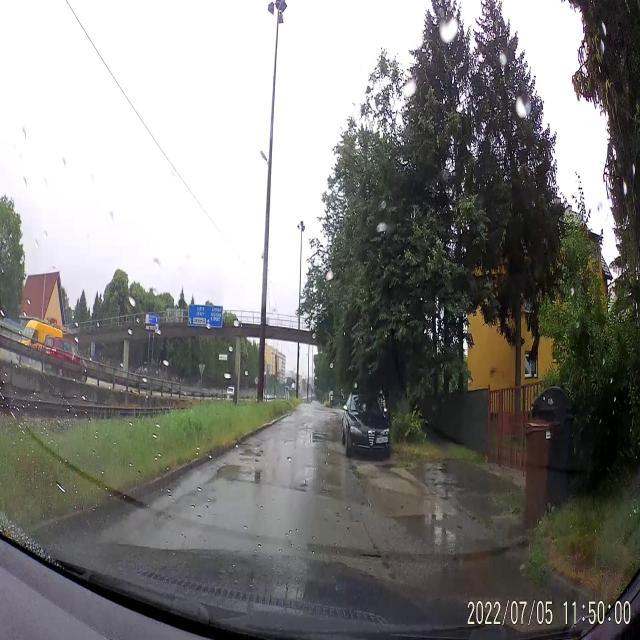Pothole: (209, 463, 263, 483), (238, 442, 264, 462), (313, 427, 332, 447)
